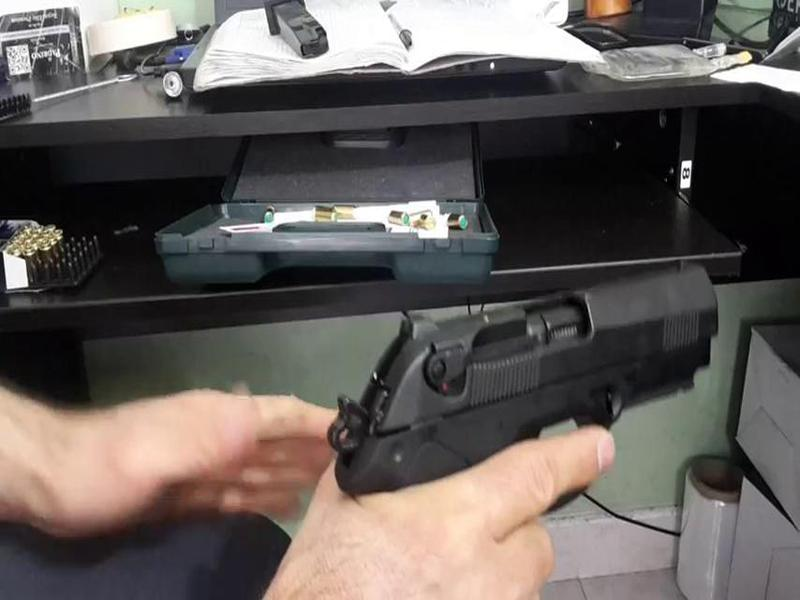Pistola: (309, 254, 750, 533)
